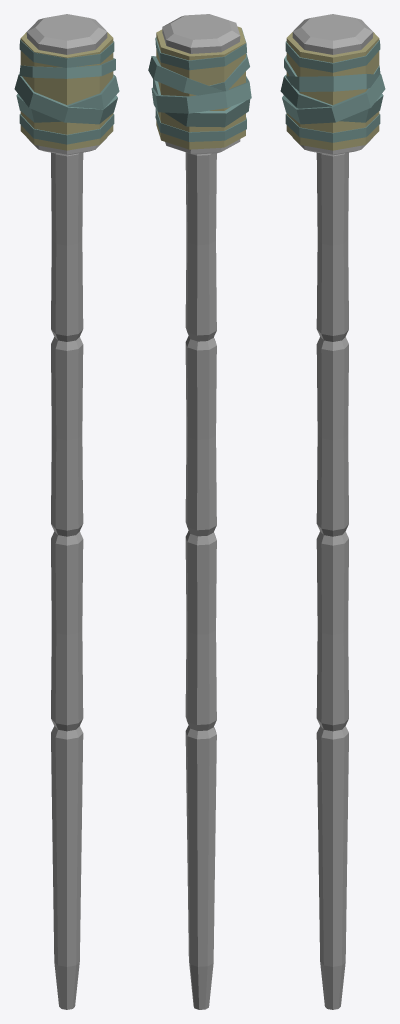
The model's file is tocha var1.fbx.
The picture shows the model from 3 angles, left to right: view 1: azimuth 90°, elevation 25°; view 2: azimuth 210°, elevation 25°; view 3: azimuth 270°, elevation 25°; orthographic projection.
Parts seen in each view (by area): view 1: haste_geo1, haste_geo2, haste_geo3, haste_geo4, tira_base_geo, pira_geo, tira_geo2, tira_geo5, tira_geo3, tira_geo1, tira_geo6; view 2: haste_geo1, haste_geo3, haste_geo2, haste_geo4, tira_base_geo, pira_geo, tira_geo2, tira_geo3, tira_geo4, tira_geo6, tira_geo1, tira_geo5; view 3: haste_geo1, haste_geo2, haste_geo3, haste_geo4, tira_base_geo, pira_geo, tira_geo2, tira_geo4, tira_geo3, tira_geo1, tira_geo6.
Part boxes in pixels (<box>): haste_geo1: <box>51,726,83,1009</box>; haste_geo2: <box>51,531,83,731</box>; haste_geo3: <box>51,337,83,536</box>; haste_geo4: <box>51,152,83,341</box>; tira_base_geo: <box>20,32,113,150</box>; pira_geo: <box>26,14,107,155</box>; tira_geo2: <box>14,74,117,124</box>; tira_geo5: <box>19,58,115,78</box>; tira_geo3: <box>16,74,119,122</box>; tira_geo1: <box>19,113,114,144</box>; tira_geo6: <box>19,39,114,67</box>; haste_geo1: <box>185,725,216,1009</box>; haste_geo3: <box>185,336,216,536</box>; haste_geo2: <box>185,530,216,730</box>; haste_geo4: <box>185,152,216,341</box>; tira_base_geo: <box>156,26,245,149</box>; pira_geo: <box>162,14,240,154</box>; tira_geo2: <box>151,76,251,113</box>; tira_geo3: <box>153,79,250,127</box>; tira_geo4: <box>148,56,223,95</box>; tira_geo6: <box>155,28,246,70</box>; tira_geo1: <box>155,108,246,141</box>; tira_geo5: <box>209,53,249,91</box>; haste_geo1: <box>316,726,348,1009</box>; haste_geo2: <box>316,531,348,731</box>; haste_geo3: <box>316,337,348,536</box>; haste_geo4: <box>316,152,348,341</box>; tira_base_geo: <box>286,32,379,150</box>; pira_geo: <box>292,14,373,155</box>; tira_geo2: <box>282,74,385,124</box>; tira_geo4: <box>286,73,379,91</box>; tira_geo3: <box>280,74,383,122</box>; tira_geo1: <box>285,113,380,142</box>; tira_geo6: <box>285,40,380,72</box>.
Size of the model in its own units: 0.2401 by 2.43 by 0.2358.
